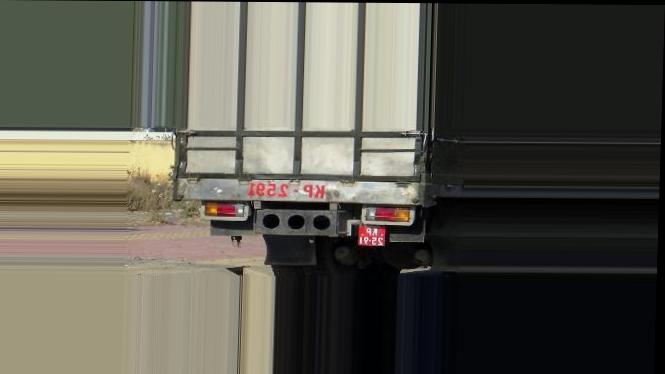License_Plate: (357, 225, 386, 247)
